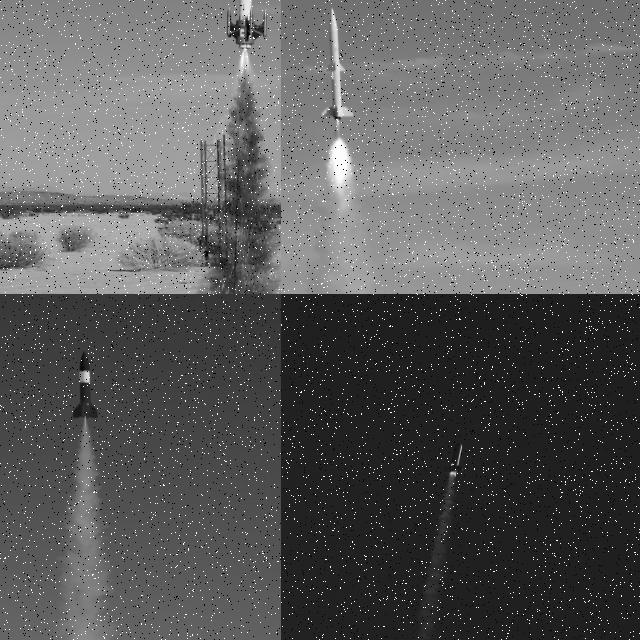Rocket: (320, 7, 355, 120), (225, 0, 268, 50), (70, 350, 100, 421), (442, 442, 465, 478)
